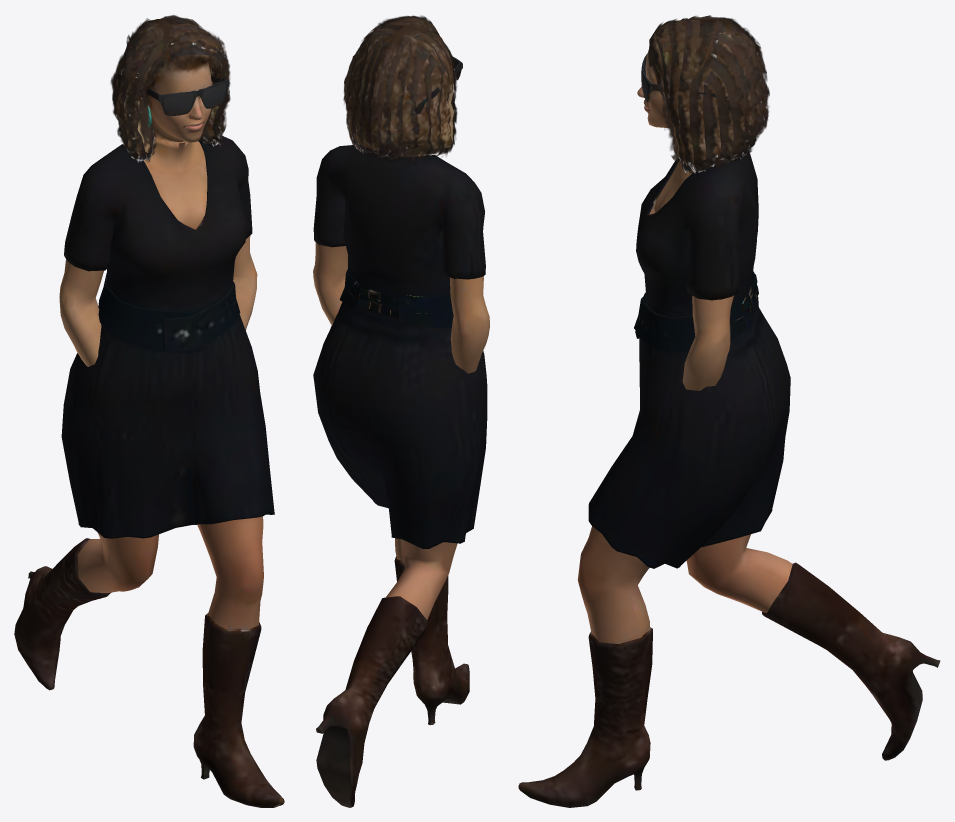
3 renders of one model, left to right at view 1: azimuth 30°, elevation 25°; view 2: azimuth 150°, elevation 25°; view 3: azimuth 270°, elevation 25°, orthographic. The views are drawn at different scales.
Parts seen in each view (by area): view 1: p05050; view 2: p05050; view 3: p05050.
Boxes of the visible parts, x1,y1,x2,y2 form: p05050: (14,15,284,807); p05050: (313,15,489,807); p05050: (518,15,940,807).
Bounding box in the file's own units: 0.4351 × 1.66 × 0.8236.
Materials: 1 (1 with a texture image).
